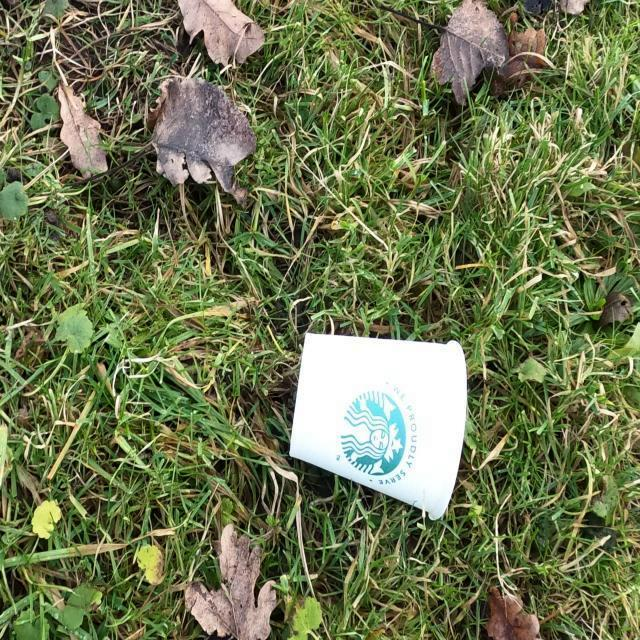Coffee Cup: (288, 330, 468, 522)
